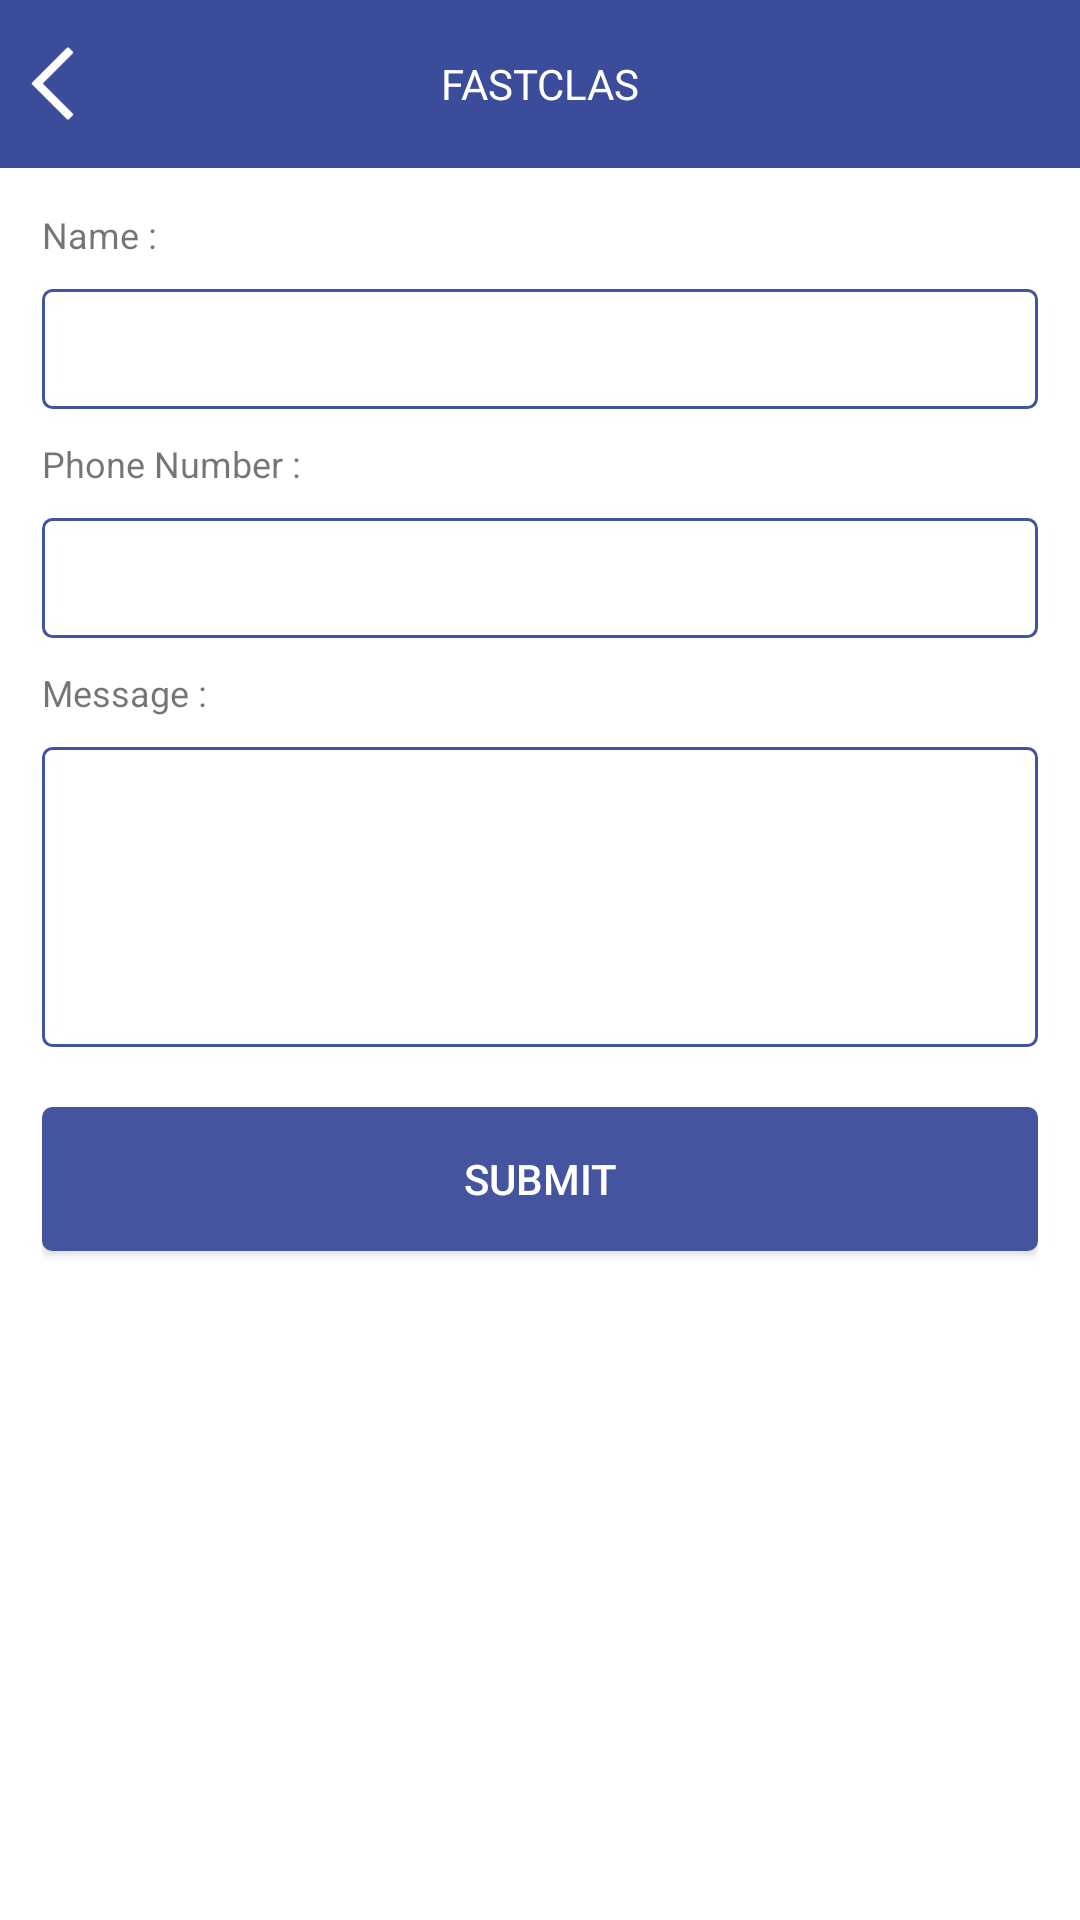

Icons on this 1080px×1920px Android screen, each with its box as (x1,y1,x2,y2):
back: (31,47,74,120)
